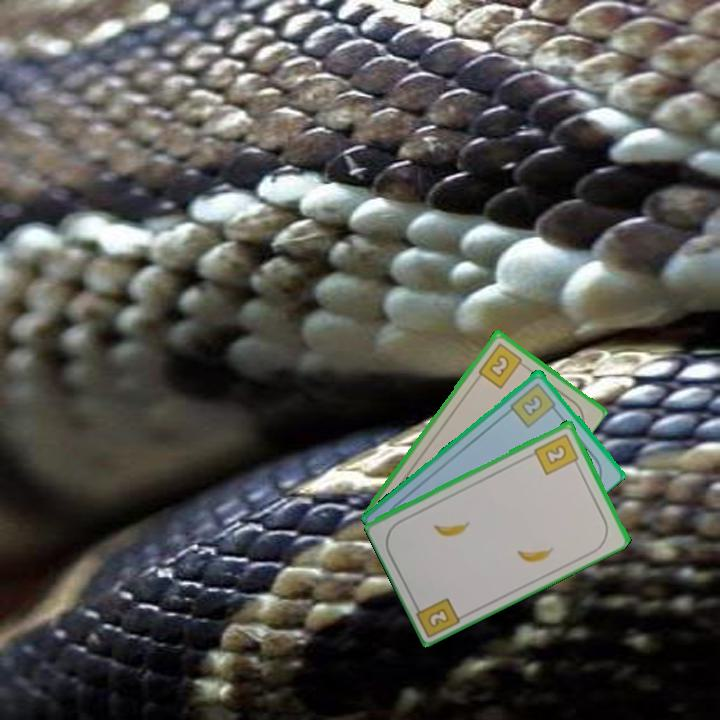2b: (474, 339, 529, 391), (507, 379, 561, 430), (531, 430, 582, 477), (424, 604, 452, 630)
